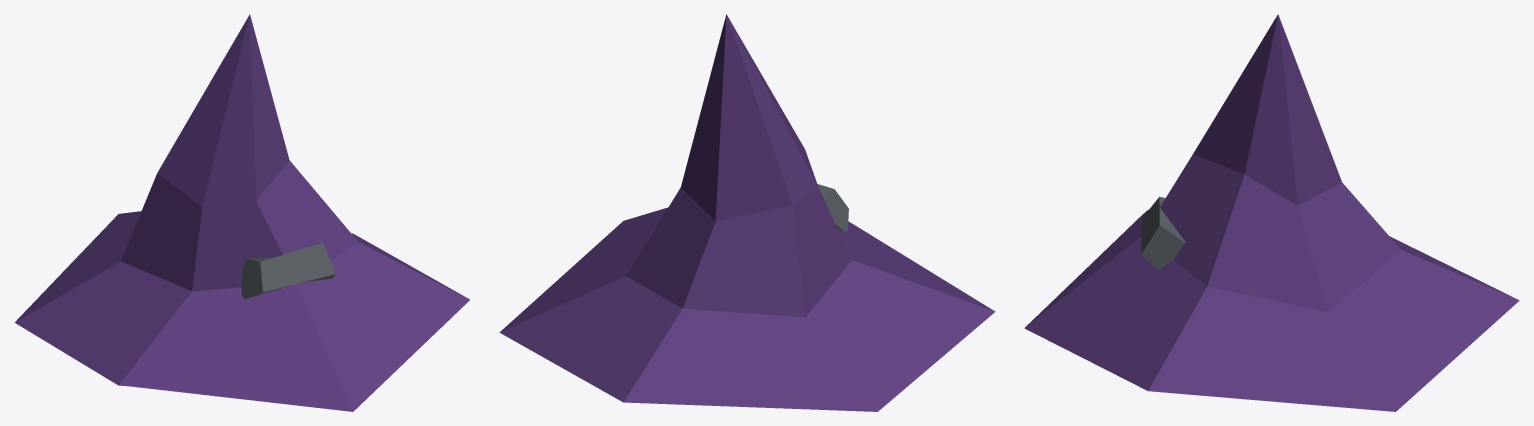
The model's file is wizard_hat_01.fbx.
3 renders of one model, left to right at view 1: azimuth 30°, elevation 25°; view 2: azimuth 150°, elevation 25°; view 3: azimuth 270°, elevation 25°, orthographic. The views are drawn at different scales.
Parts seen in each view (by area): view 1: wizard_hat_01; view 2: wizard_hat_01; view 3: wizard_hat_01.
Part boxes in pixels (bbox=[...]): wizard_hat_01: bbox=[14, 14, 469, 411]; wizard_hat_01: bbox=[499, 14, 995, 411]; wizard_hat_01: bbox=[1024, 14, 1519, 411].
Size of the model in its own units: 2.1 by 1.74 by 2.43.
